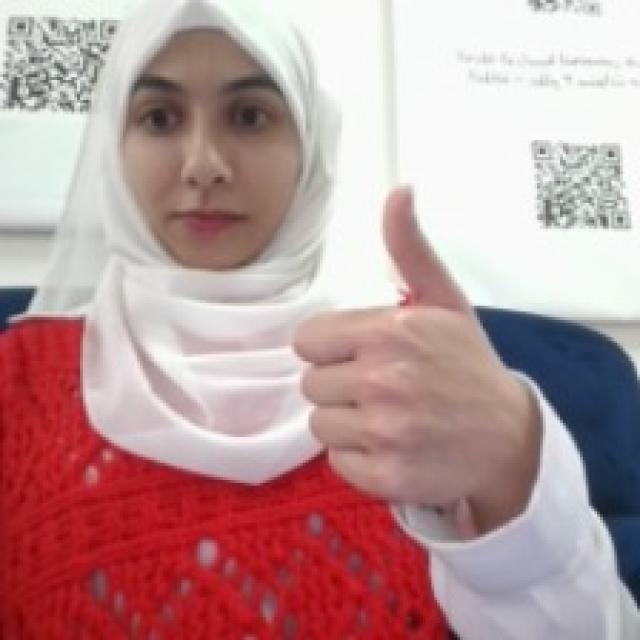fine: (277, 168, 509, 508)
